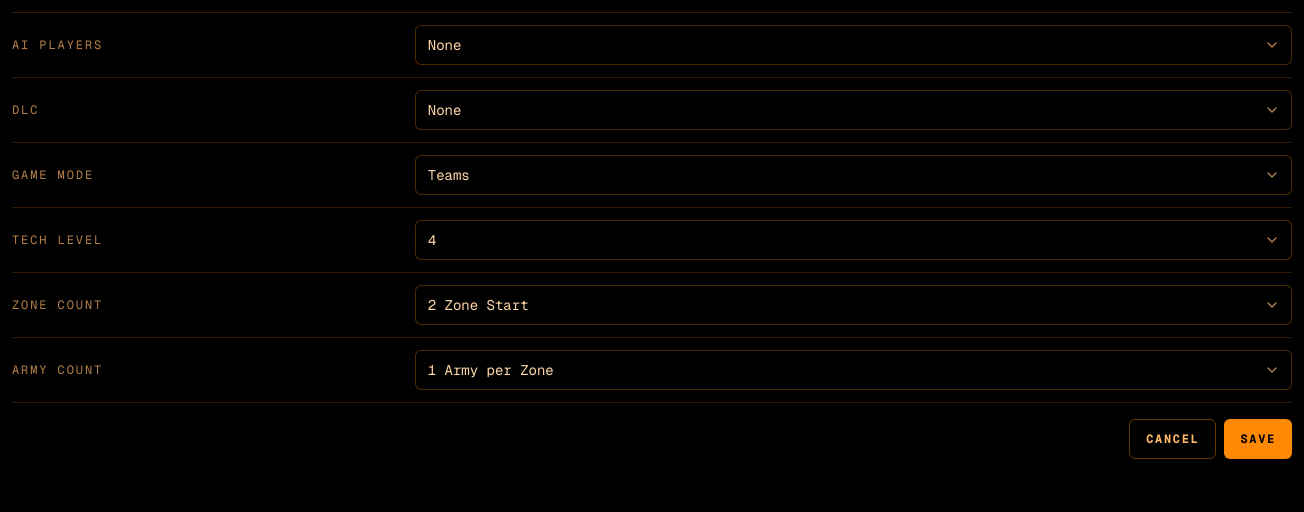
Test: CampaignSettingsEditor › rejects saving a clean section without fetching
What coordinates should you click on to do the following:
click the button "Save"
I would click on:
 (1258, 439)
Its box is [1224,419,1292,459].
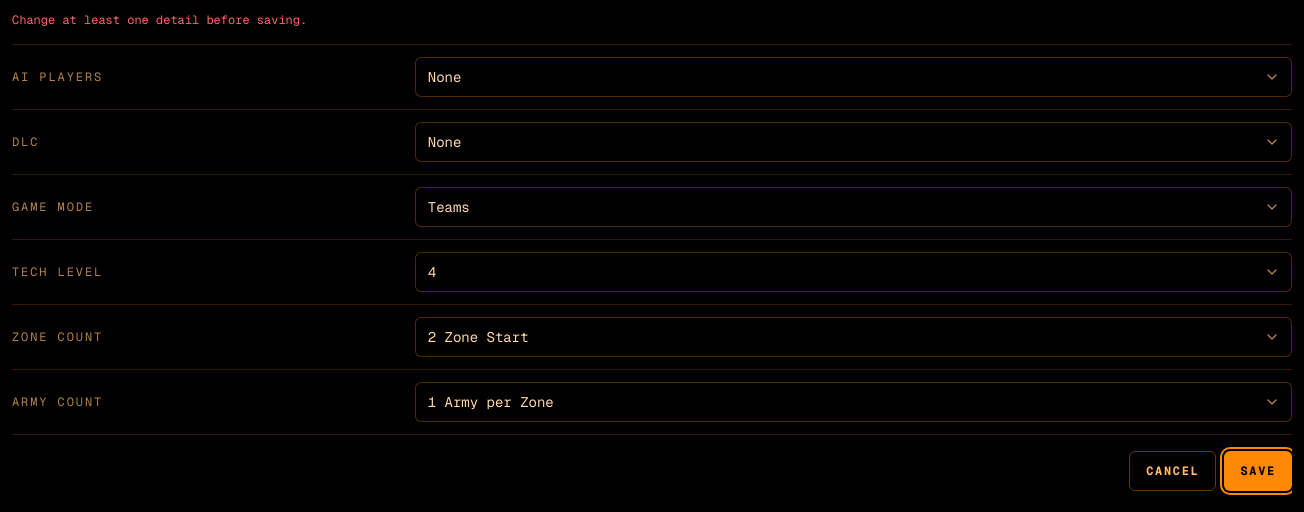
Expected: the message reads "Change at least one detail before saving.", [12,12,307,28]
